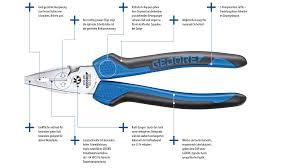pliers: (22, 50, 247, 107)
